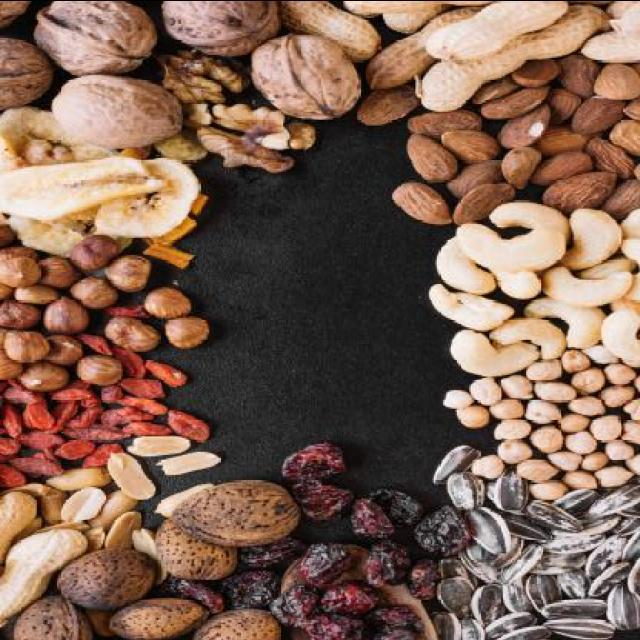Frutta secca: (7, 0, 343, 139), (14, 476, 298, 639), (262, 432, 453, 636), (344, 1, 640, 122), (407, 60, 640, 213), (440, 465, 637, 640), (11, 228, 227, 378), (449, 208, 640, 370), (483, 364, 639, 496)
